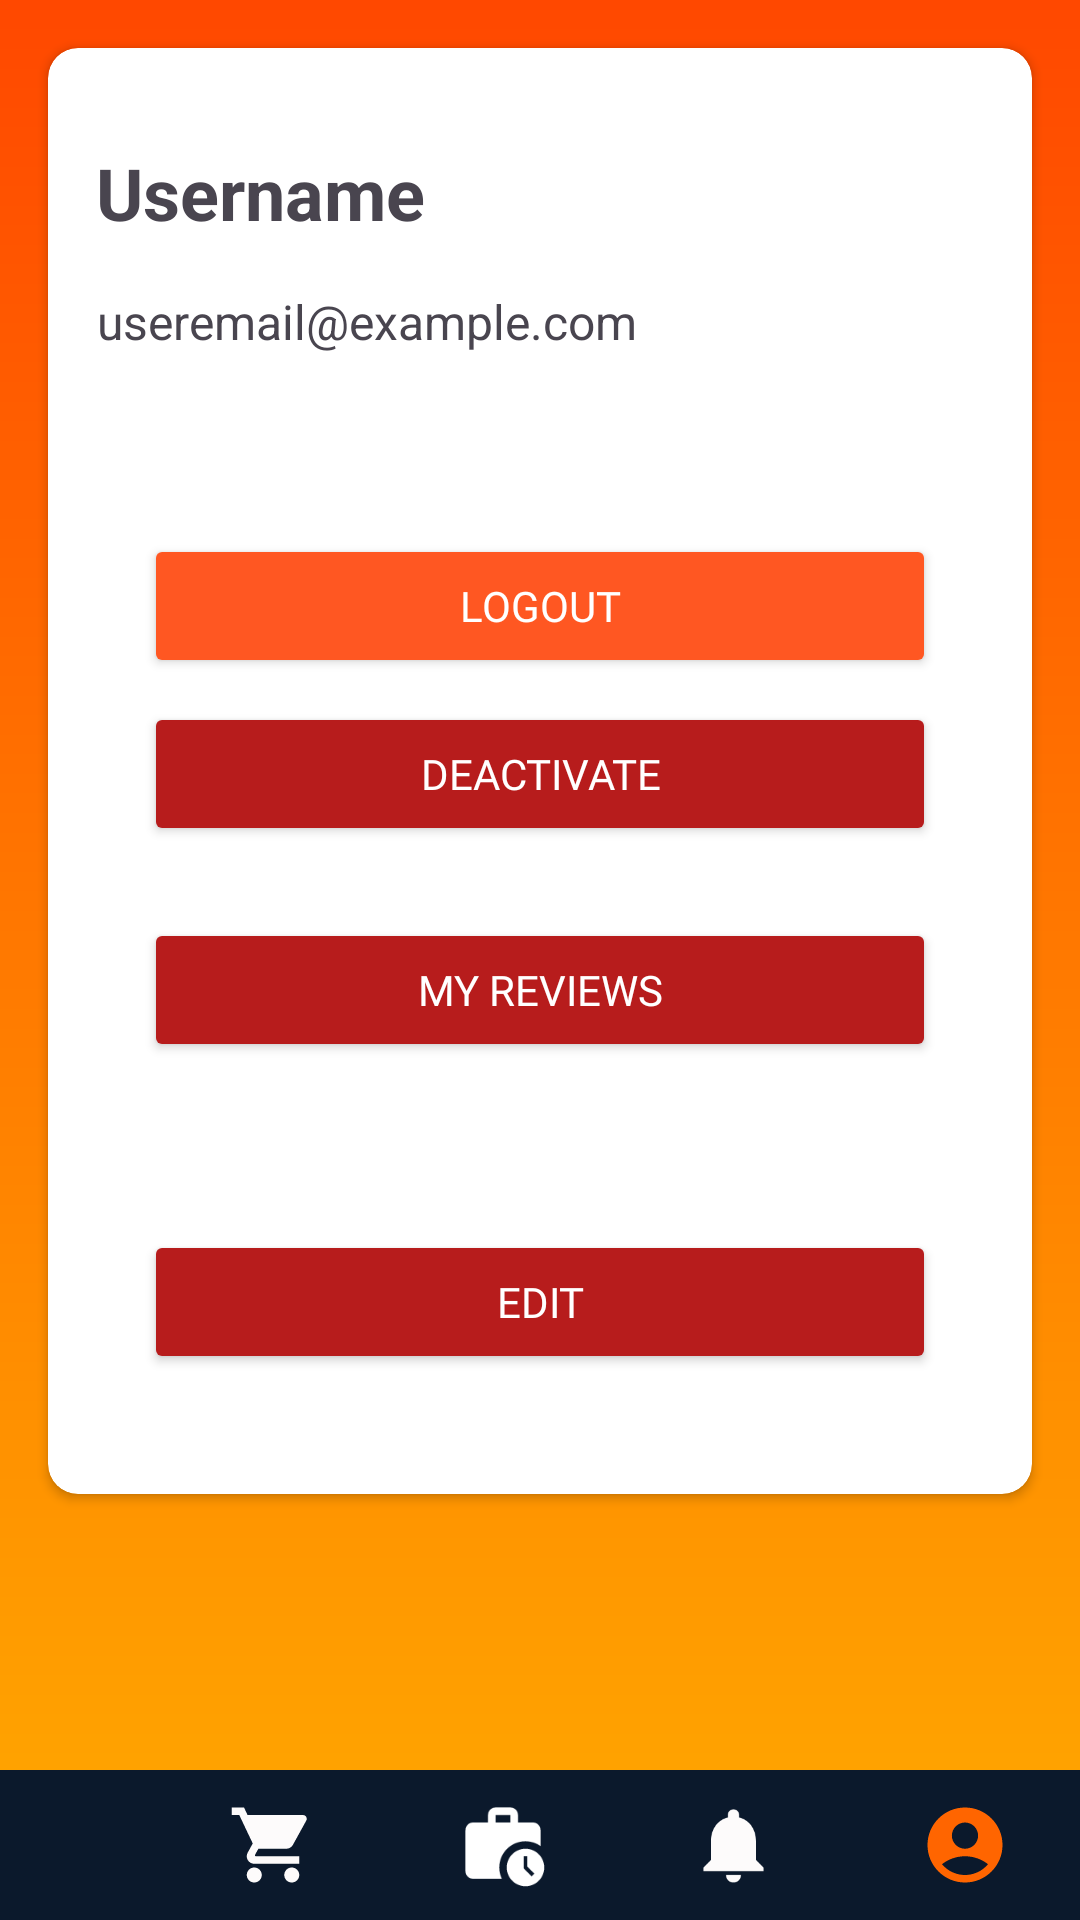

Icons on this 1080px x 1920px Android screen, each with its box as (x1, y1, x2, y2):
cart: (231, 1807, 307, 1883)
notifications: (703, 1809, 764, 1883)
work history: (465, 1807, 545, 1887)
